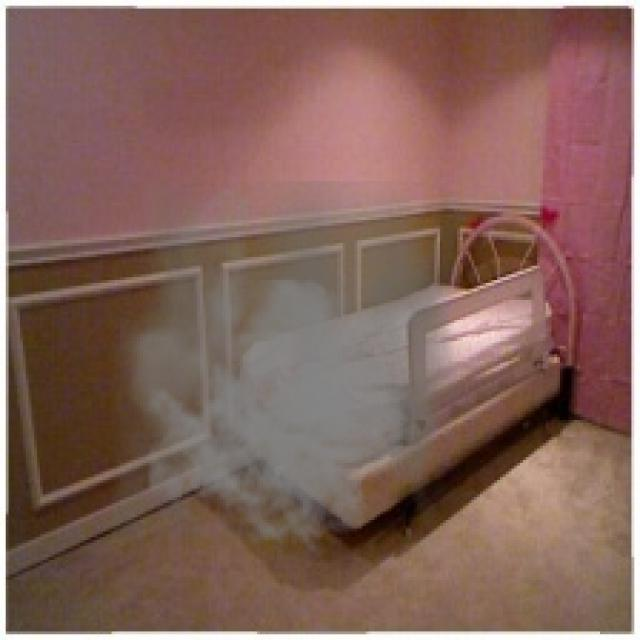smoke: (111, 180, 460, 554)
